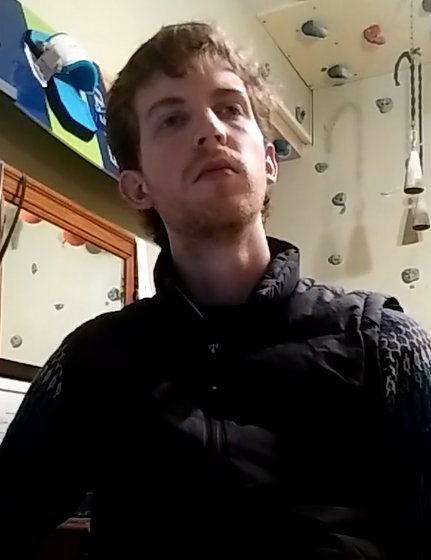Not Sleeping: (140, 85, 254, 141)
